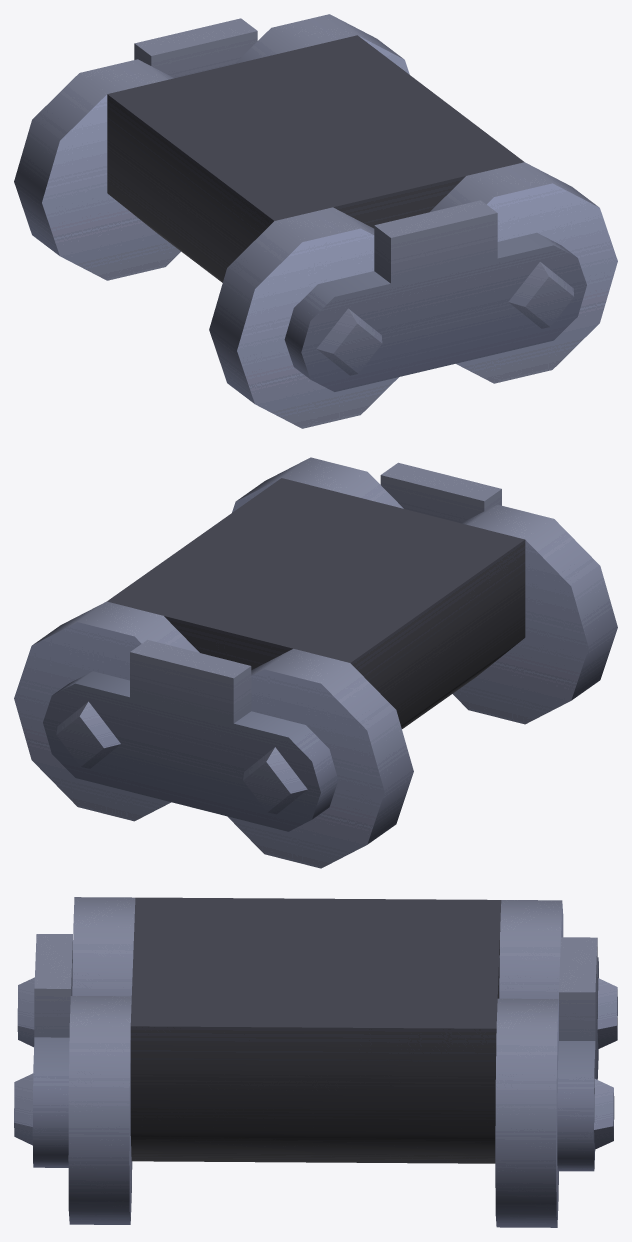
Rendered from wheels-back.001_lev2.glb.
The picture shows the model from 3 angles, top to bottom: view 1: azimuth 30°, elevation 25°; view 2: azimuth 150°, elevation 25°; view 3: azimuth 270°, elevation 25°; orthographic projection. The views are drawn at different scales.
Visible parts, largest first — view 1: wheels-back.001_lev2; view 2: wheels-back.001_lev2; view 3: wheels-back.001_lev2.
Boxes of the visible parts, x1,y1,x2,y2 form: wheels-back.001_lev2: [14, 14, 617, 428]; wheels-back.001_lev2: [14, 457, 617, 868]; wheels-back.001_lev2: [14, 897, 617, 1227].
Bounding box in the file's own units: 0.7735 × 0.3595 × 0.9904.
1 material, 1 textured.
